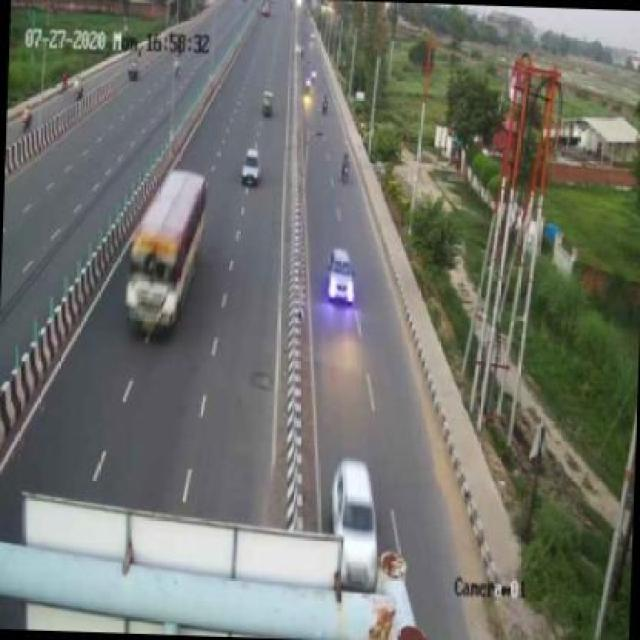car: (334, 455, 391, 591), (326, 243, 359, 311), (243, 148, 262, 188)
